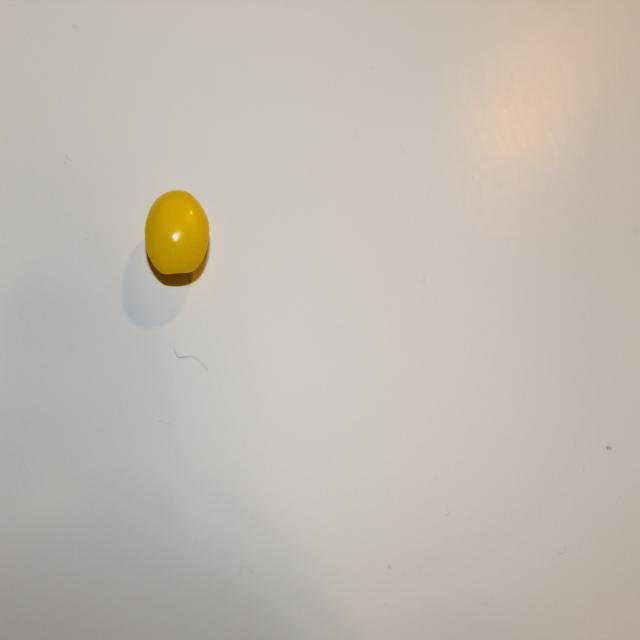smartie: (144, 190, 209, 274)
